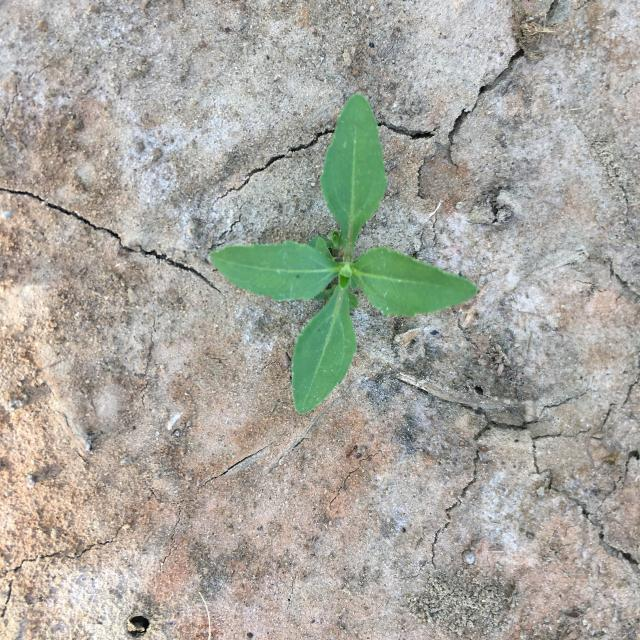Eclipta: (210, 93, 478, 414)
